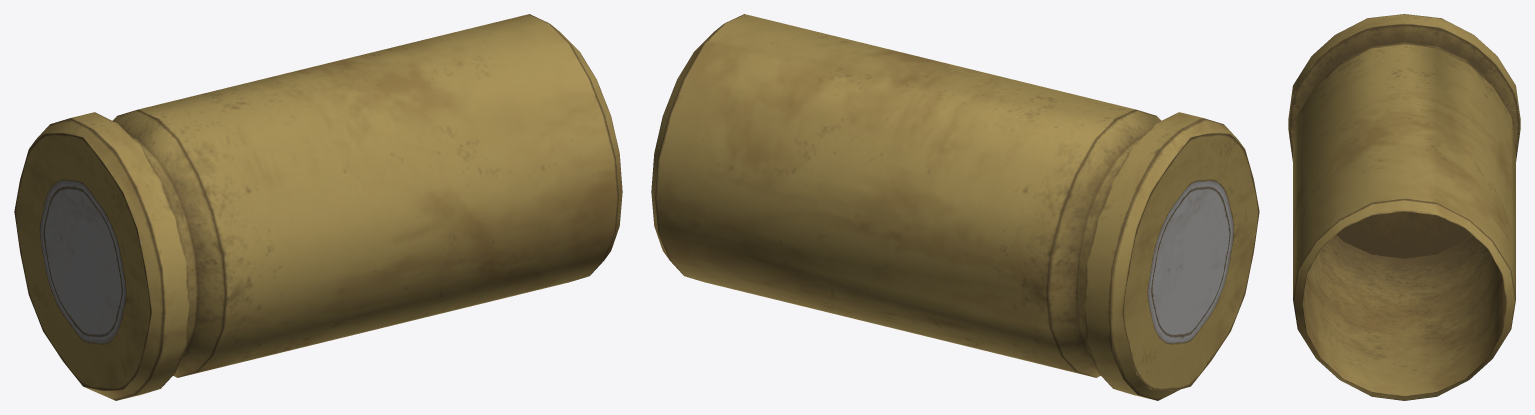
The model's file is casing.glb.
The picture shows the model from 3 angles, left to right: view 1: azimuth 30°, elevation 25°; view 2: azimuth 150°, elevation 25°; view 3: azimuth 270°, elevation 25°; orthographic projection. The views are drawn at different scales.
Visible parts, largest first — view 1: BulletCasing; view 2: BulletCasing; view 3: BulletCasing.
Boxes of the visible parts, <box> form: BulletCasing: <box>14,14,622,400</box>; BulletCasing: <box>651,14,1259,400</box>; BulletCasing: <box>1288,14,1520,400</box>.
Bounding box in the file's own units: 0.0192 × 0.01 × 0.01.
1 material, 1 textured.
